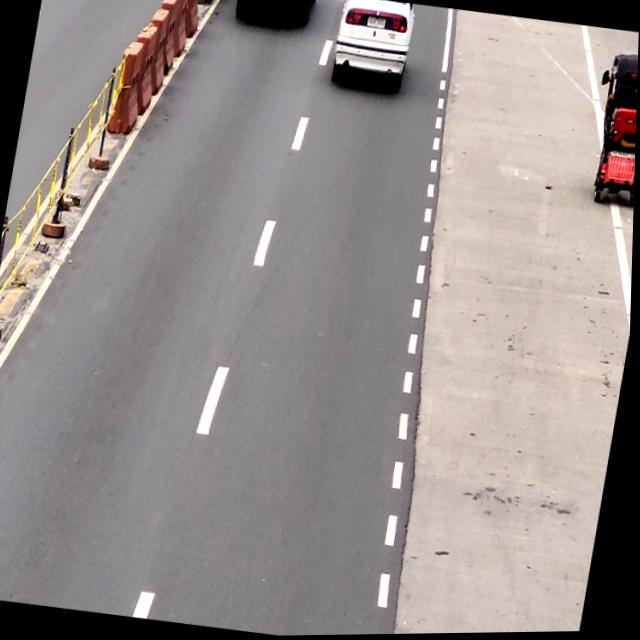Car: (328, 0, 416, 97)
License-Plate: (366, 14, 389, 33)
